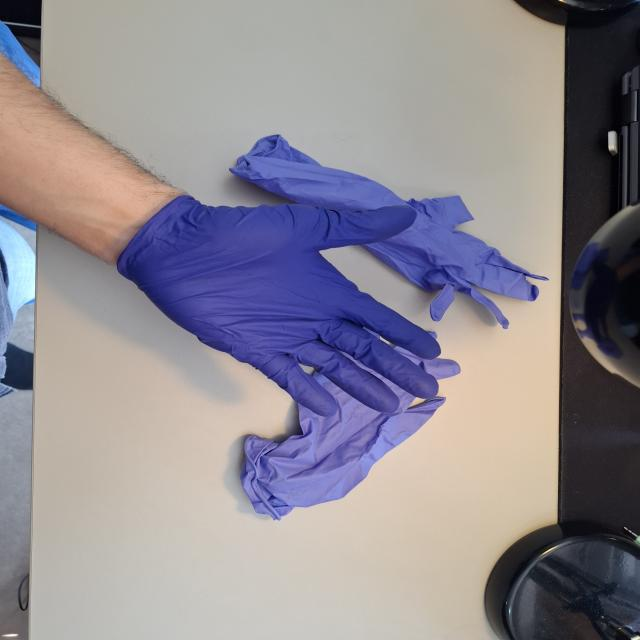glove_on: (113, 192, 445, 418)
